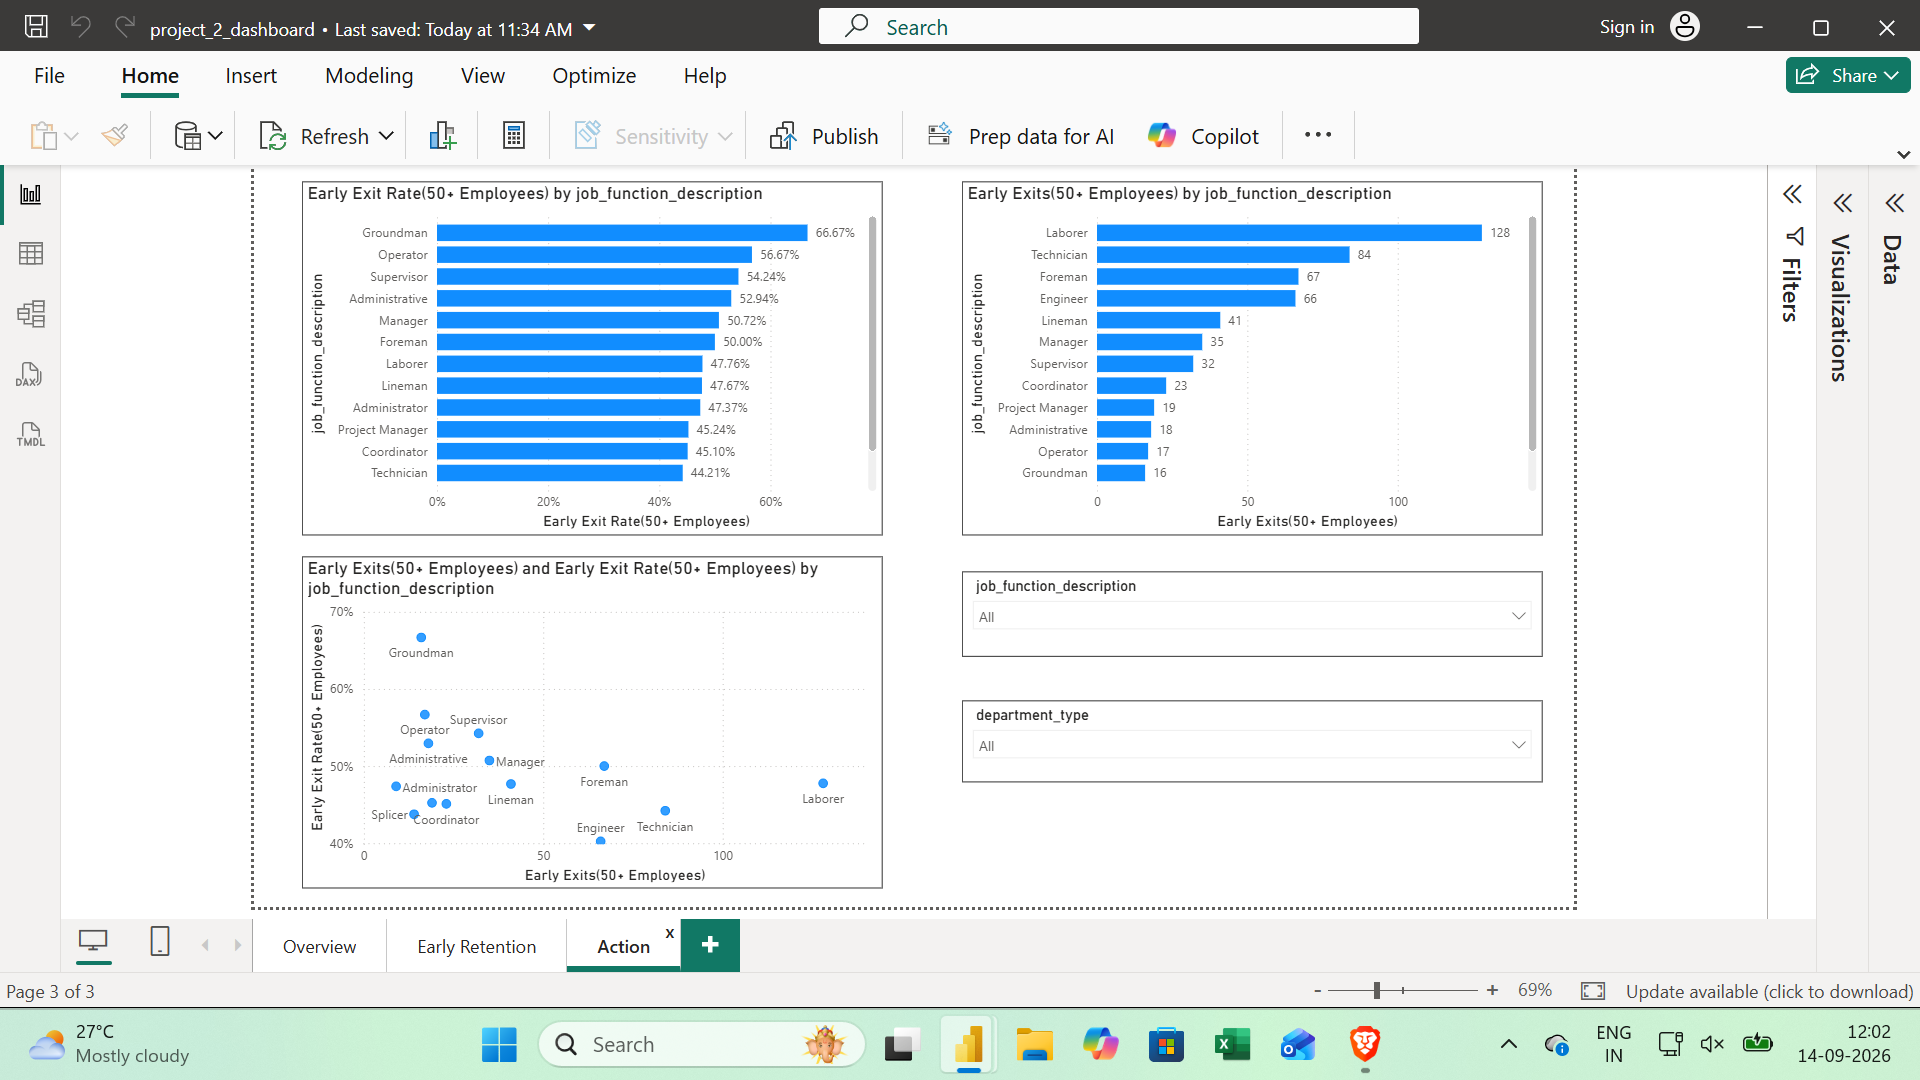

Layout of this report page (visuals, bound fields, positions):
{"tool":"powerbi","page":{"name":"Action","canvas":[1280,720],"ordinal":2},"visuals":[{"type":"barChart","fields":{"Category":["employee_clean.job_function_description"],"Y":["employee_clean.Early Exit Rate(50+ Employees)"]},"box":[47,16.2,563.5,343.3],"z":0},{"type":"barChart","fields":{"Category":["employee_clean.job_function_description"],"Y":["employee_clean.Early Exits(50+ Employees)"]},"box":[686.6,16.2,563.5,343.3],"z":1},{"type":"scatterChart","fields":{"Y":["employee_clean.Early Exit Rate(50+ Employees)"],"X":["employee_clean.Early Exits(50+ Employees)"],"Category":["employee_clean.job_function_description"]},"box":[47,380.5,563.5,322.2],"z":2},{"type":"slicer","fields":{"Values":["employee_clean.job_function_description"]},"box":[686.6,395.1,563.5,82.6],"z":3},{"type":"slicer","fields":{"Values":["employee_clean.department_type"]},"box":[686.6,519.8,563.5,79.3],"z":4}]}

Visuals, with their boxes on the page's 1280x720 design canvas (x1, y1, x2, y2). These are canvas units, not pixel positions in the 1920x1080 screenshot, which may show the page scaled, cropped or inside an application window:
barChart - employee_clean.job_function_description x employee_clean.Early Exit Rate(50+ Employees): box(47, 16, 610, 360)
barChart - employee_clean.job_function_description x employee_clean.Early Exits(50+ Employees): box(687, 16, 1250, 360)
scatterChart - employee_clean.Early Exit Rate(50+ Employees) x employee_clean.Early Exits(50+ Employees): box(47, 380, 610, 703)
slicer - employee_clean.job_function_description: box(687, 395, 1250, 478)
slicer - employee_clean.department_type: box(687, 520, 1250, 599)
